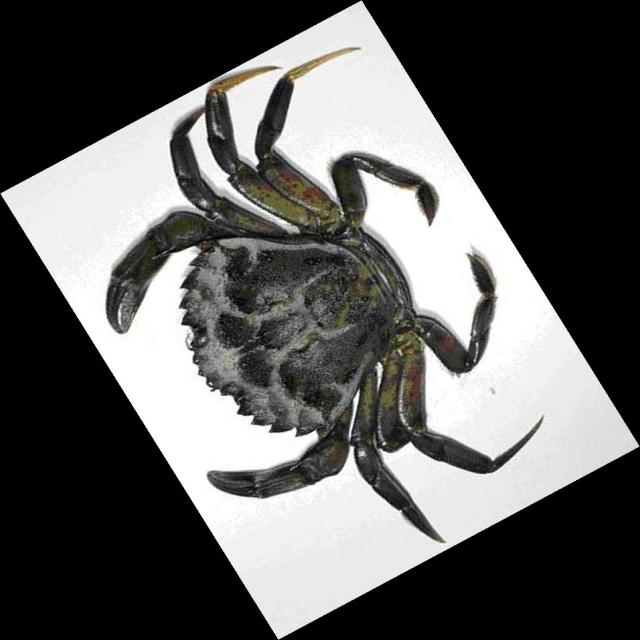Native Jonah crab: (105, 47, 542, 542)
